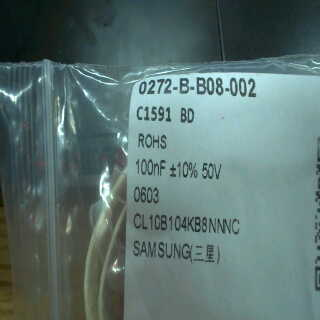100nF: (132, 156, 169, 181)
